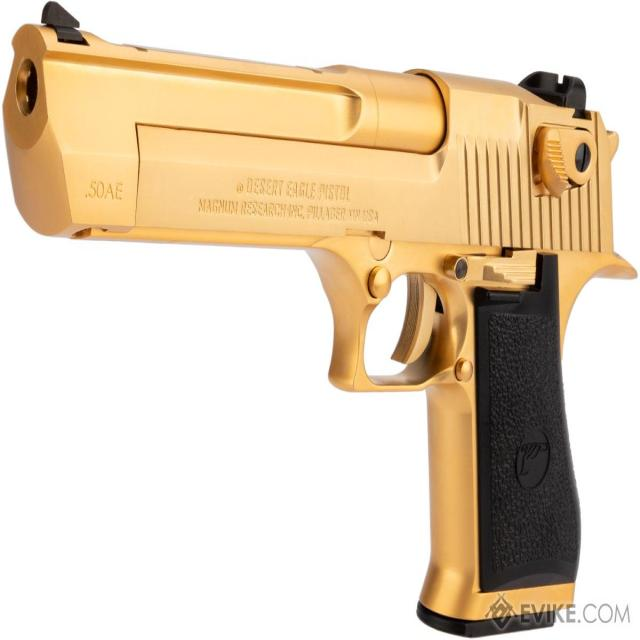handgun: (5, 1, 634, 640)
